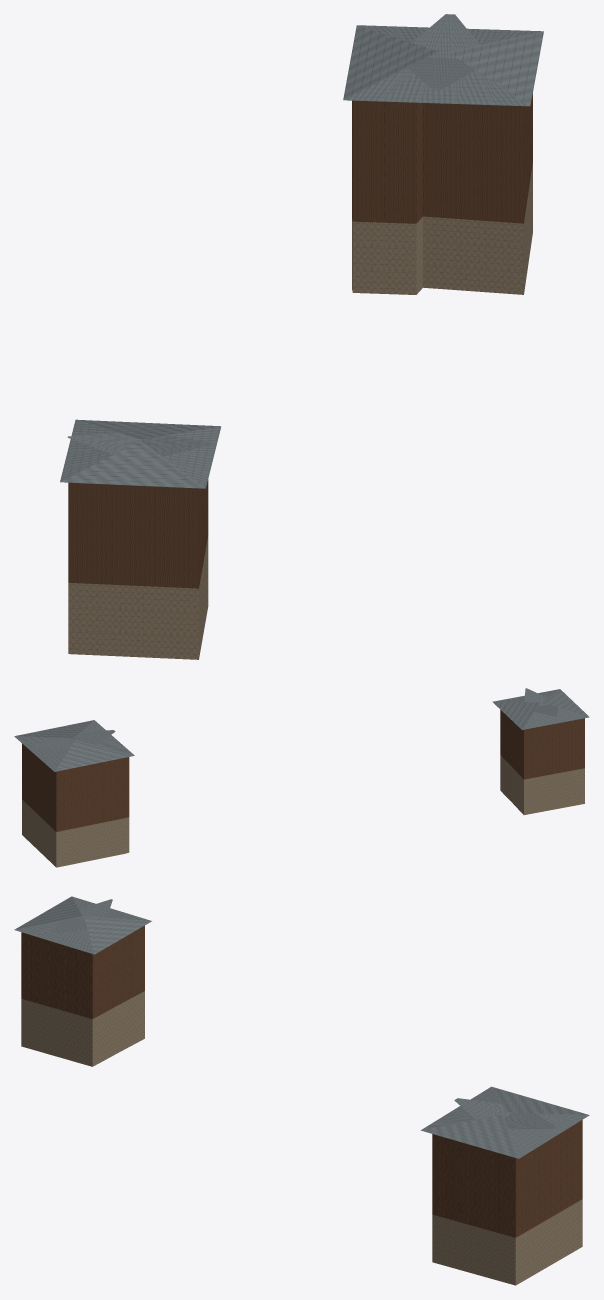
Rendered from bld_c-23_10_547.gltf.
3 views of the same model, one above another, from view 1: azimuth 30°, elevation 25°; view 2: azimuth 150°, elevation 25°; view 3: azimuth 270°, elevation 25° (orthographic). The views are drawn at different scales.
Visible parts, largest first — view 1: bld_c-23_10_547; view 2: bld_c-23_10_547; view 3: bld_c-23_10_547.
Part boxes in pixels (left/top/right/bottom): bld_c-23_10_547: left=60, top=14, right=543, bottom=659; bld_c-23_10_547: left=14, top=688, right=589, bottom=867; bld_c-23_10_547: left=14, top=896, right=589, bottom=1285.
Bounding box in the file's own units: 61.26 × 15 × 55.79.
Materials: 3 (3 with a texture image).
